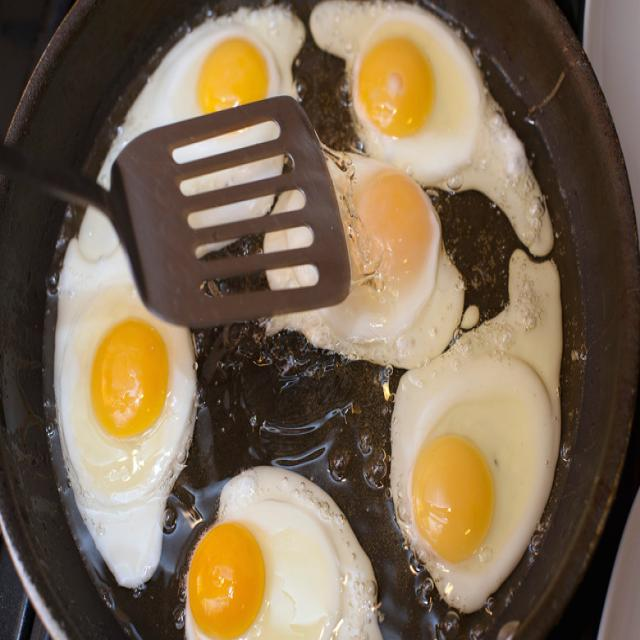Egg: (310, 0, 552, 255), (55, 239, 196, 587), (391, 351, 558, 612), (268, 152, 464, 367), (98, 6, 305, 187), (186, 468, 375, 639), (230, 500, 341, 639), (199, 197, 272, 226), (79, 209, 119, 260)
